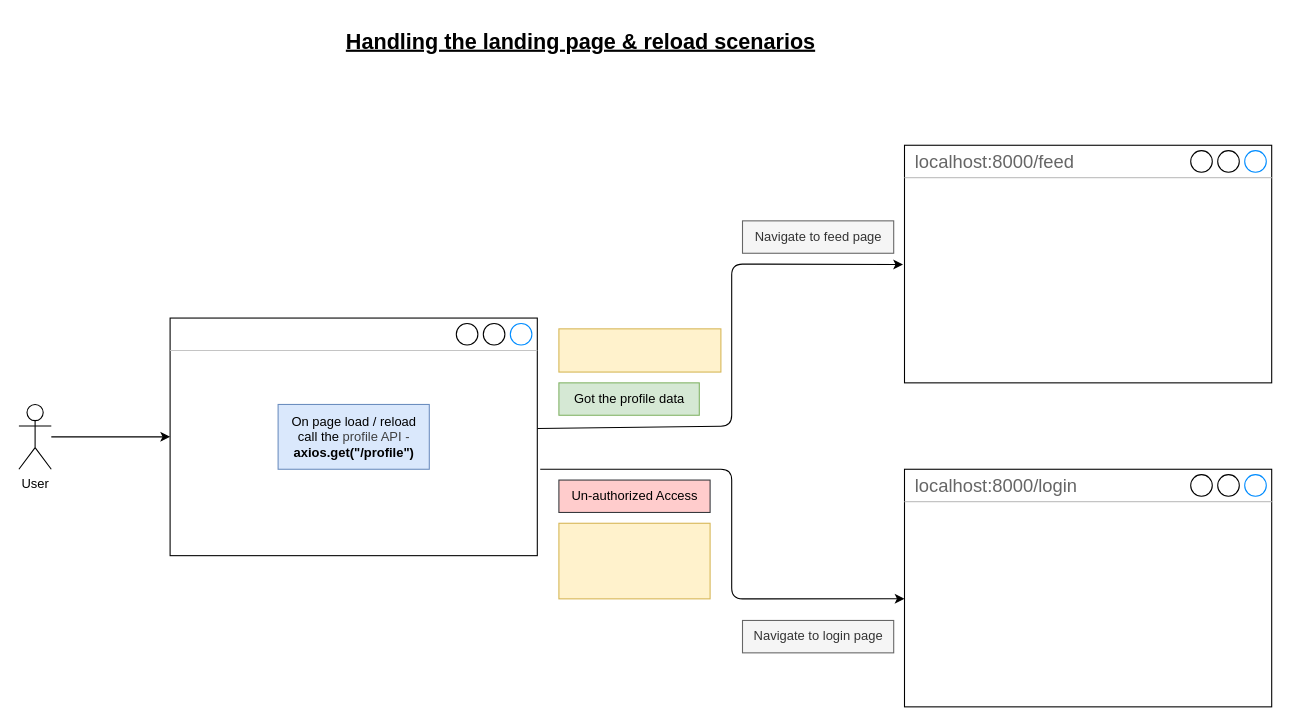
Some shapes in this 1291 by 726 pixel diagram are drawn without their labels. Each missing label, with the box of its shape:
1. token is not there in browser cookie 2. Broser with invalid token: (558, 522, 710, 599)
localhost:8000: (169, 317, 537, 556)
valid token present in the browser cookies: (558, 328, 721, 372)
